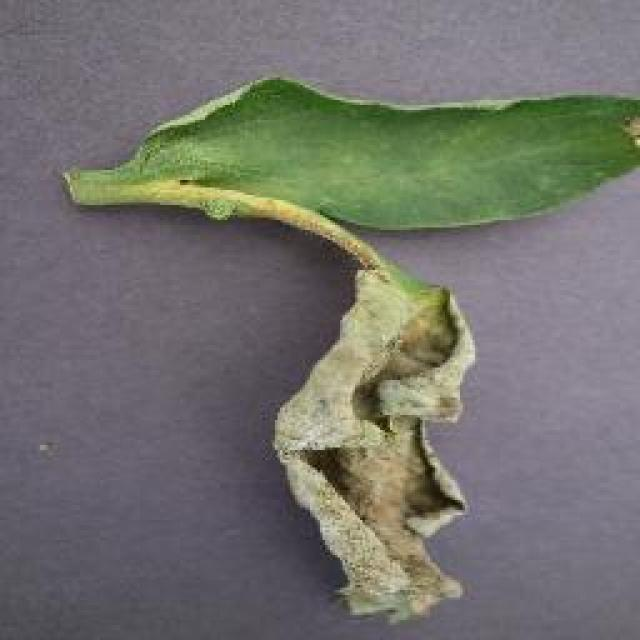Tomato late blight leaf: (65, 65, 640, 615)
